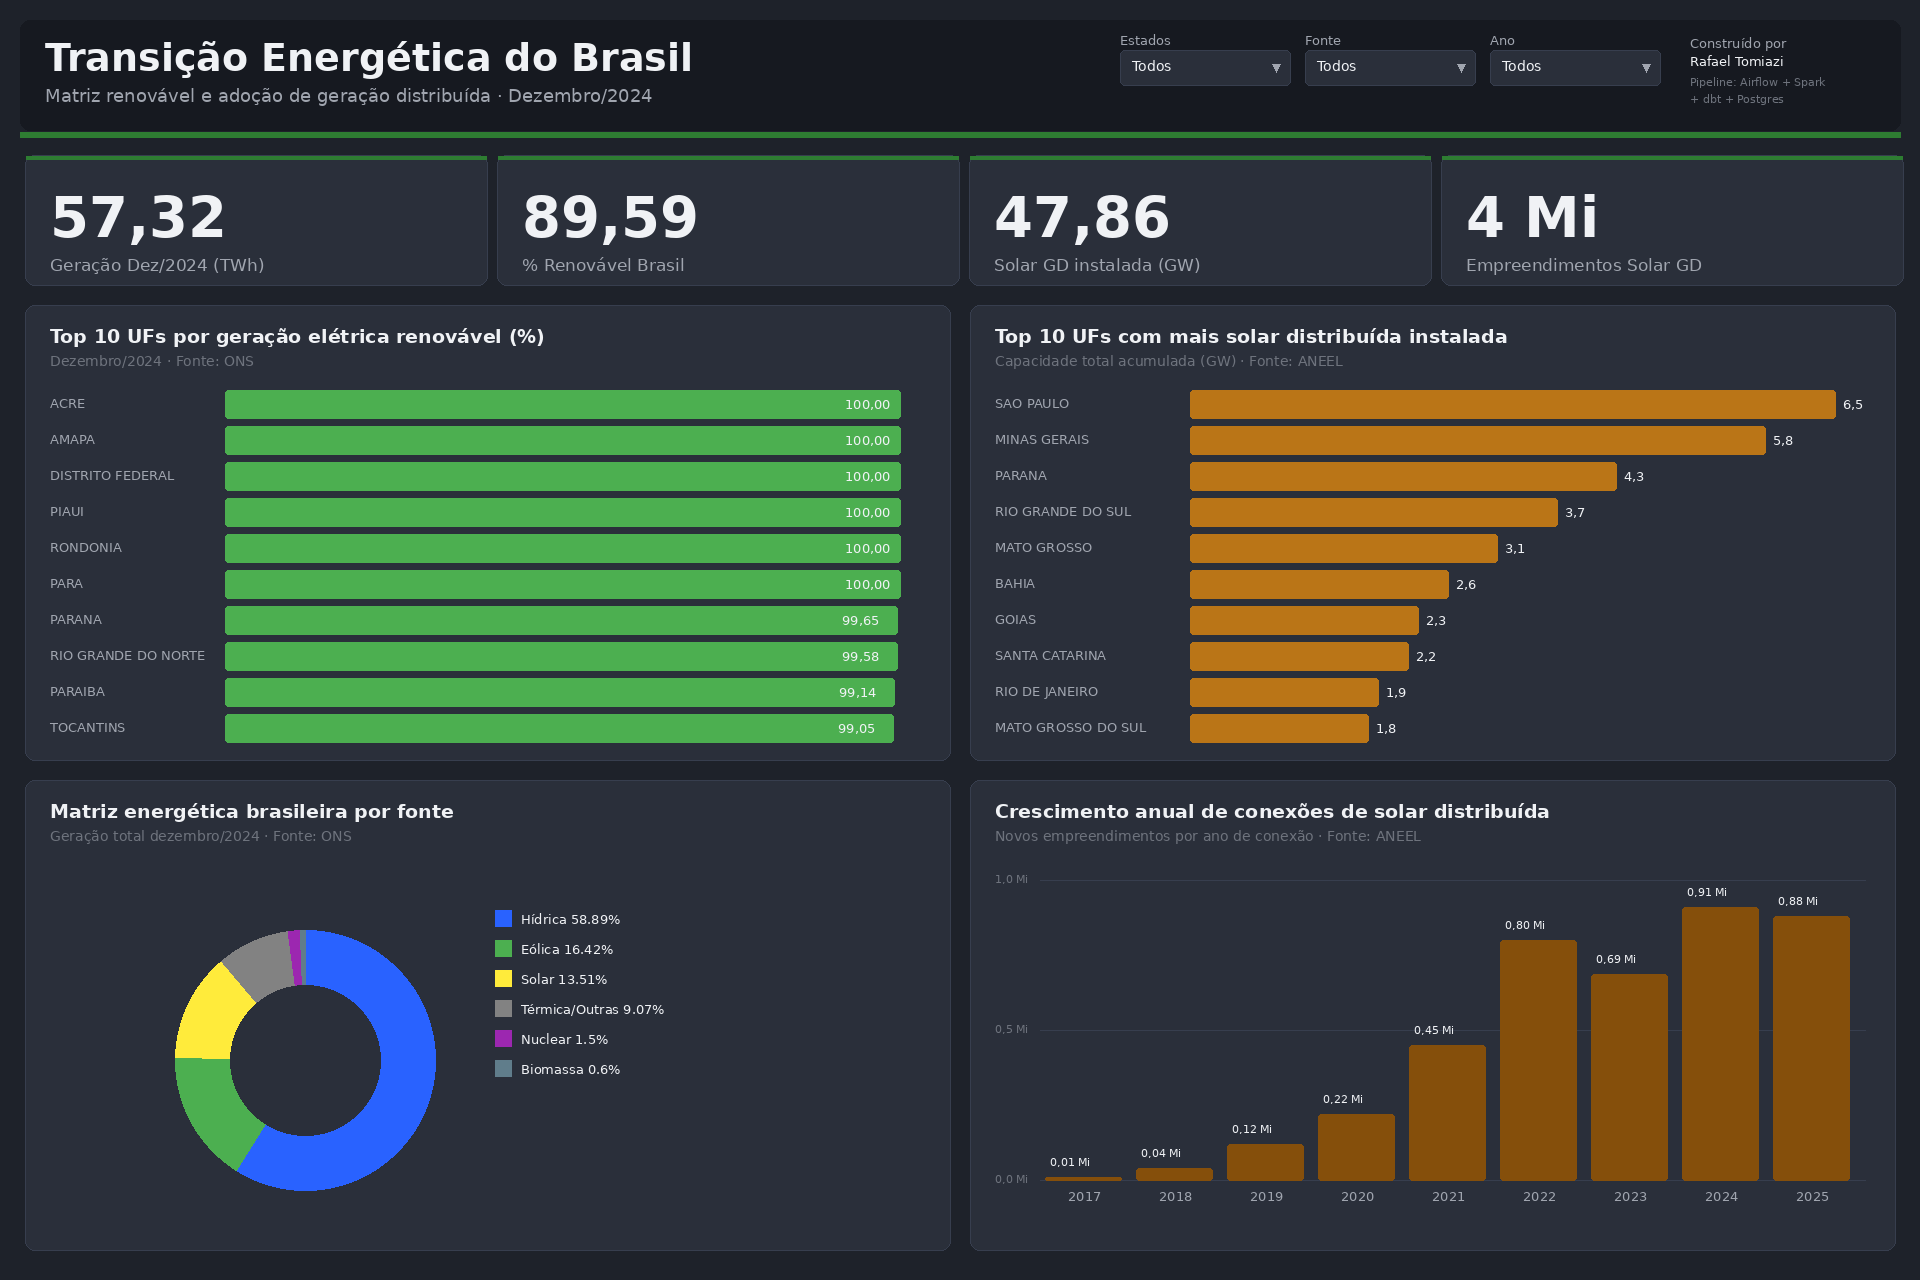

What the dashboard file says about the page in this screenshot:
{"tool":"powerbi","page":{"name":"Página 1","canvas":[1280,720],"ordinal":0},"visuals":[{"type":"barChart","title":"Top 10 UFs por geração elétrica renovável (%)","fields":{"Y":["public_marts fact_geracao_mensal.% Renovável"],"Category":["public_marts dim_uf.nome_estado"]},"box":[0,218,640,256],"z":0},{"type":"barChart","title":"Top 10 UFs com mais solar distribuída instalada","fields":{"Category":["public_marts dim_uf.nome_estado"],"Y":["public_marts fact_capacidade_distribuida.Capacidade Solar MW"]},"box":[640,218,640,256],"z":1000},{"type":"columnChart","title":"Crescimento anual de conexões de solar distribuída","fields":{"Category":["public_marts fact_capacidade_distribuida.ano_conexao"],"Y":["Sum(public_marts fact_capacidade_distribuida.num_empreendimentos_novos)"]},"box":[640.5,474.2,639.5,245.8],"z":2000},{"type":"donutChart","title":"Matriz energética brasileira por fonte","fields":{"Category":["public_marts dim_fonte_energia.categoria_simplificada"],"Y":["Sum(public_marts fact_geracao_mensal.geracao_total_mwh)"]},"box":[0,474,640,245],"z":3000},{"type":"cardVisual","fields":{"Data":["public_marts fact_geracao_mensal.Geração Total TWh"]},"box":[0,50,267,161],"z":4000},{"type":"cardVisual","fields":{"Data":["public_marts fact_geracao_mensal.% Renovável"]},"box":[267,58,373,160],"z":5000},{"type":"cardVisual","fields":{"Data":["public_marts fact_capacidade_distribuida.Capacidade Solar (MW)"]},"box":[640,58,320,160],"z":6000},{"type":"cardVisual","fields":{"Data":["public_marts fact_capacidade_distribuida.Empreendimentos Solar GD"]},"box":[960,58,320,160],"z":7000},{"type":"textbox","box":[0,0,874,77],"z":8000},{"type":"textbox","box":[1165,0,115,95],"z":9000}]}

Visuals, with their boxes on the page's 1280x720 design canvas (x1, y1, x2, y2). These are canvas units, not pixel positions in the 1920x1280 screenshot, which may show the page scaled, cropped or inside an application window:
"Top 10 UFs por geração elétrica renovável (%)" barChart: {"left": 0, "top": 218, "right": 640, "bottom": 474}
"Top 10 UFs com mais solar distribuída instalada" barChart: {"left": 640, "top": 218, "right": 1280, "bottom": 474}
"Crescimento anual de conexões de solar distribuída" columnChart: {"left": 640, "top": 474, "right": 1280, "bottom": 720}
"Matriz energética brasileira por fonte" donutChart: {"left": 0, "top": 474, "right": 640, "bottom": 719}
cardVisual - public_marts fact_geracao_mensal.Geração Total TWh: {"left": 0, "top": 50, "right": 267, "bottom": 211}
cardVisual - public_marts fact_geracao_mensal.% Renovável: {"left": 267, "top": 58, "right": 640, "bottom": 218}
cardVisual - public_marts fact_capacidade_distribuida.Capacidade Solar (MW): {"left": 640, "top": 58, "right": 960, "bottom": 218}
cardVisual - public_marts fact_capacidade_distribuida.Empreendimentos Solar GD: {"left": 960, "top": 58, "right": 1280, "bottom": 218}
textbox: {"left": 0, "top": 0, "right": 874, "bottom": 77}
textbox: {"left": 1165, "top": 0, "right": 1280, "bottom": 95}
